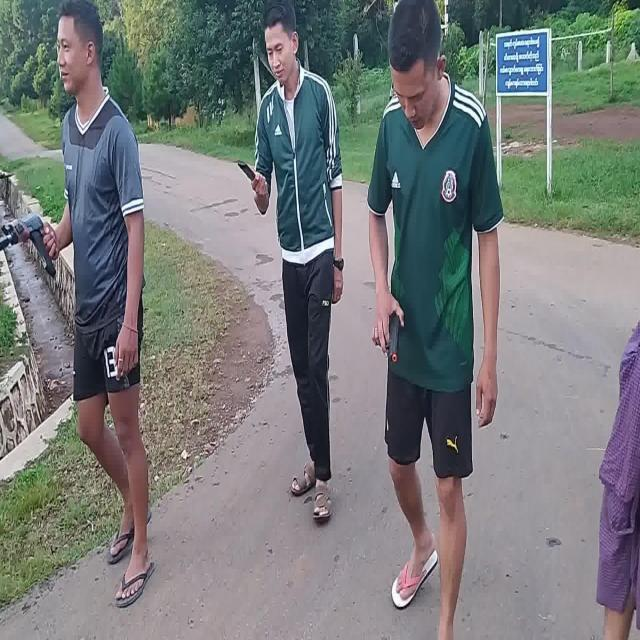gun: (1, 217, 54, 274), (390, 313, 399, 361)
